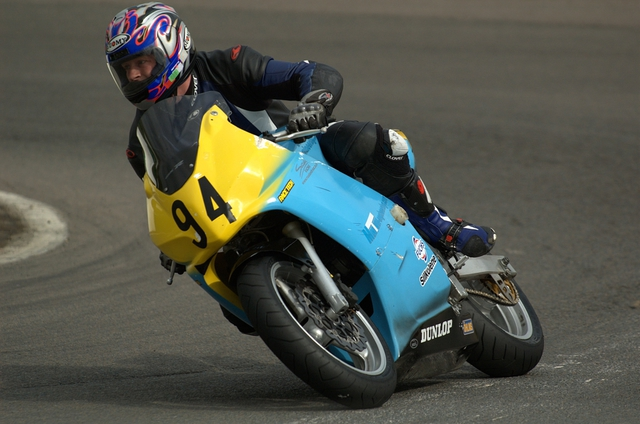helmet: (98, 8, 192, 95)
